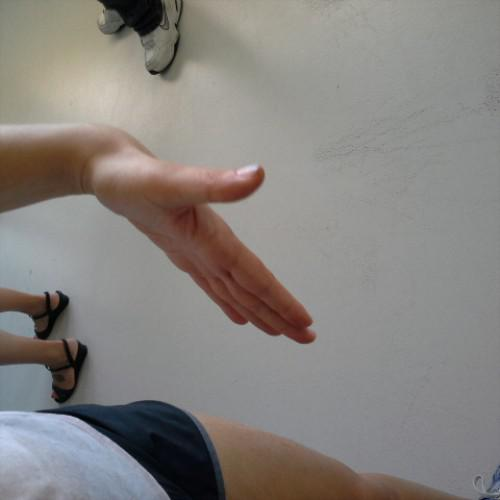paper: (84, 126, 328, 350)
